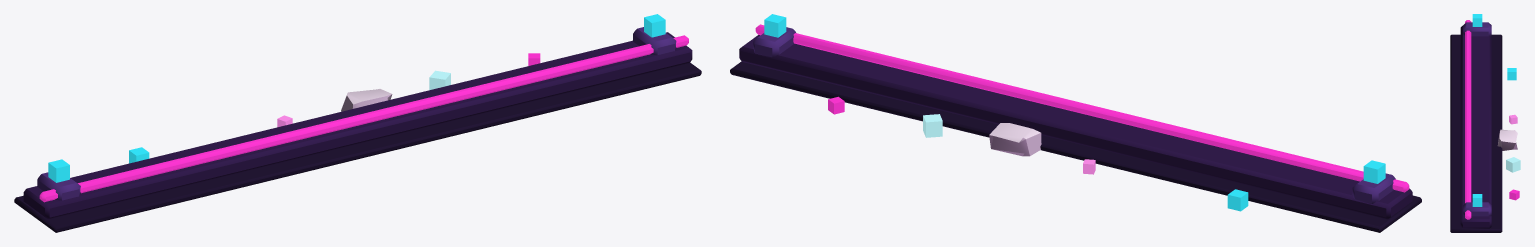
The model's file is me_frame.glb.
The picture shows the model from 3 angles, left to right: view 1: azimuth 30°, elevation 25°; view 2: azimuth 150°, elevation 25°; view 3: azimuth 270°, elevation 25°; orthographic projection. The views are drawn at different scales.
Visible parts, largest first — view 1: me_frame; view 2: me_frame; view 3: me_frame.
Boxes of the visible parts, <box> form: me_frame: <box>14,14,701,232</box>; me_frame: <box>730,14,1421,232</box>; me_frame: <box>1450,14,1520,232</box>.
Bounding box in the file's own units: 7.5 × 0.5446 × 1.14.
Materials: 2 (2 with a texture image).
